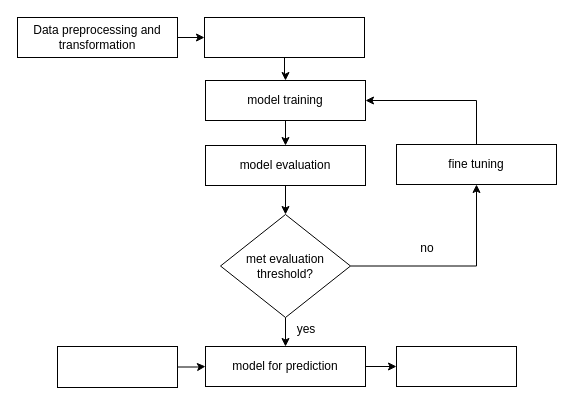
Some shapes in this 574 by 405 pixel diagram are drawn without their labels. The centre of each missing label's shape, as x and y in pixels:
"input image" goes at (117,367).
"model building" goes at (284,37).
"ouput mask" goes at (456,366).
